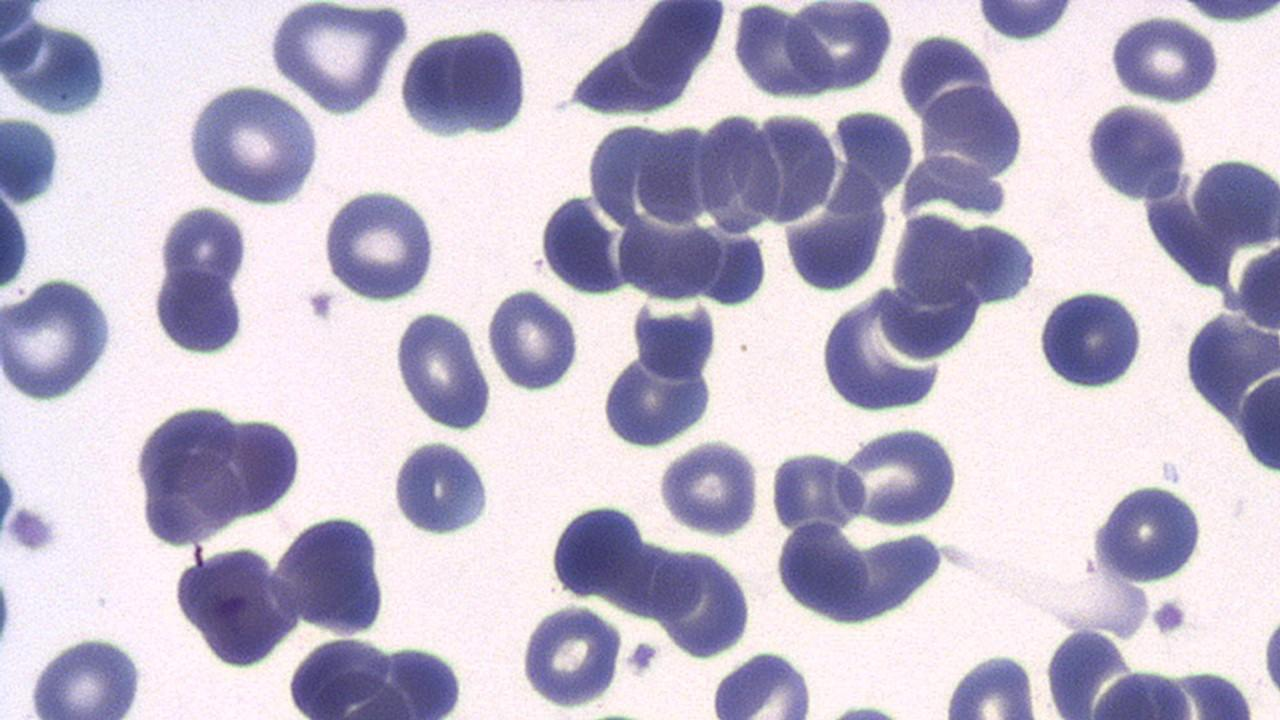Platelets: (1107, 14, 1223, 104), (939, 650, 1050, 716), (3, 506, 61, 554), (1149, 597, 1189, 638), (624, 638, 660, 677), (829, 701, 906, 719), (303, 287, 339, 323), (0, 464, 18, 536), (0, 575, 17, 649)
RBC: (179, 81, 322, 206), (266, 1, 408, 116), (0, 272, 116, 404), (779, 162, 888, 293), (318, 186, 440, 300), (1090, 477, 1206, 588), (839, 422, 962, 526), (392, 308, 494, 430), (514, 601, 625, 710), (655, 436, 763, 540), (696, 110, 782, 236), (916, 82, 1028, 178), (1108, 12, 1222, 106), (389, 435, 497, 534), (748, 108, 838, 225), (545, 500, 647, 602), (483, 287, 581, 393), (782, 2, 895, 93), (730, 0, 826, 104), (397, 27, 480, 142), (149, 264, 248, 358), (448, 26, 530, 136), (158, 202, 249, 298), (939, 650, 1046, 716)
WBC: (370, 0, 1216, 720), (0, 0, 631, 720), (992, 0, 1278, 508), (128, 396, 304, 551), (1181, 224, 1279, 494), (815, 275, 964, 422), (557, 2, 732, 119), (179, 78, 322, 208), (280, 630, 474, 718), (171, 540, 300, 670), (266, 0, 412, 114), (0, 272, 120, 404), (271, 512, 394, 635), (601, 330, 720, 450), (2, 2, 118, 120), (912, 76, 1032, 187), (1089, 478, 1209, 585), (842, 420, 962, 525), (1037, 285, 1147, 393), (1081, 100, 1189, 205), (387, 435, 494, 540), (24, 632, 154, 716), (538, 190, 634, 302), (782, 2, 896, 95), (483, 285, 581, 393), (152, 258, 253, 360), (448, 25, 530, 135), (398, 29, 478, 135), (706, 648, 820, 718), (1080, 667, 1212, 716), (1, 137, 38, 311), (2, 112, 66, 206), (973, 1, 1081, 42), (1258, 596, 1280, 714)
